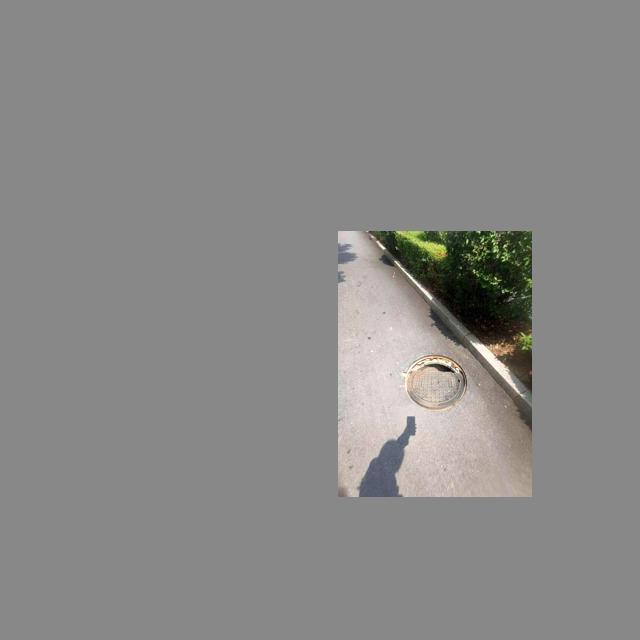broke: (401, 354, 466, 409)
